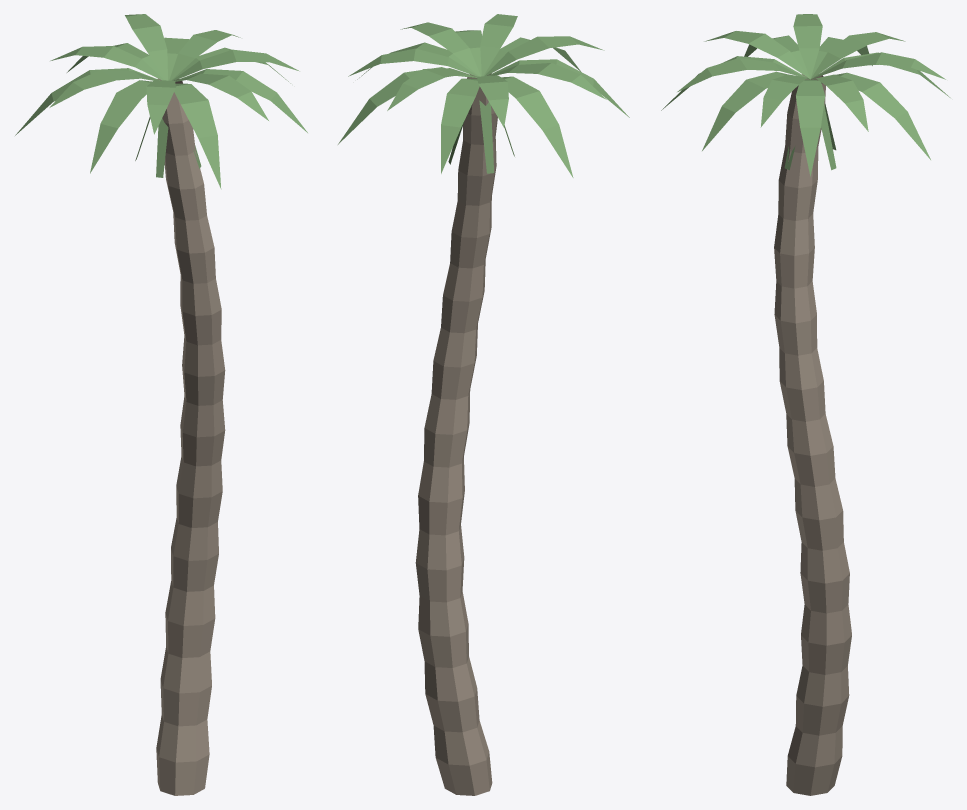
Rendered from mature_date_palm.glb.
The picture shows the model from 3 angles, left to right: view 1: azimuth 30°, elevation 25°; view 2: azimuth 150°, elevation 25°; view 3: azimuth 270°, elevation 25°; orthographic projection.
Visible parts, largest first — view 1: mature_date_palm; view 2: mature_date_palm; view 3: mature_date_palm.
Part boxes in pixels (<box>): mature_date_palm: <box>15,14,307,795</box>; mature_date_palm: <box>338,14,629,795</box>; mature_date_palm: <box>661,14,950,795</box>.
Bounding box in the file's own units: 3.9 × 10.91 × 3.99.
